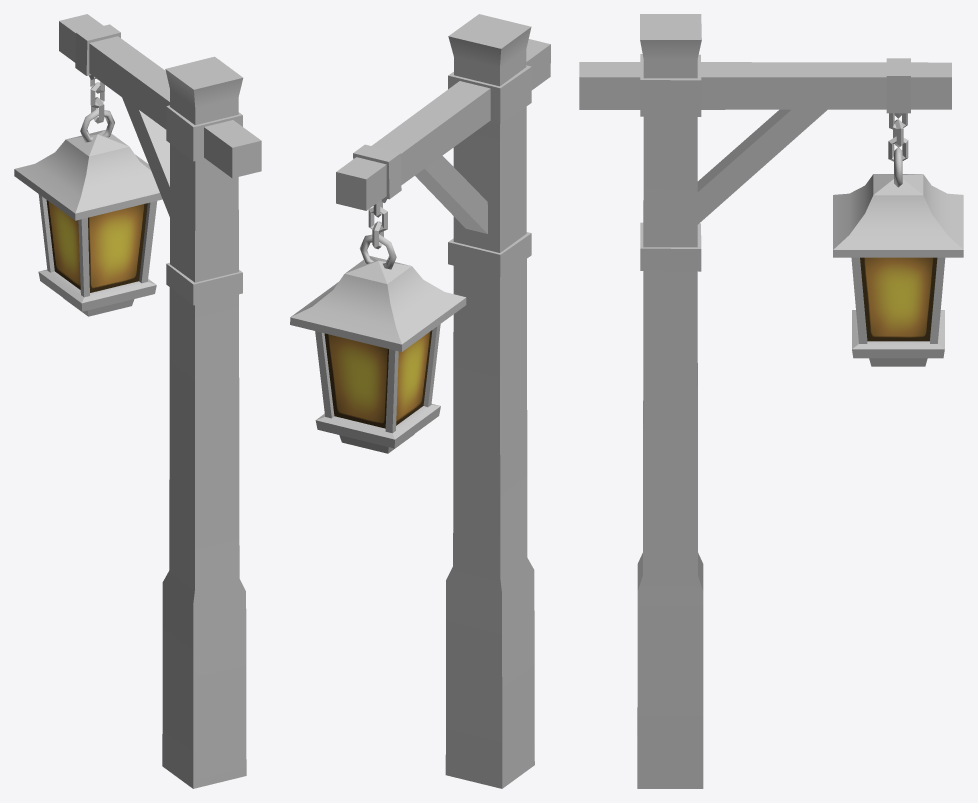
Rendered from SM_Lantern_02_A.fbx.
The picture shows the model from 3 angles, left to right: view 1: azimuth 30°, elevation 25°; view 2: azimuth 150°, elevation 25°; view 3: azimuth 270°, elevation 25°; orthographic projection. The views are drawn at different scales.
Parts seen in each view (by area): view 1: SM_Lantern_02_A_Mesh; view 2: SM_Lantern_02_A_Mesh; view 3: SM_Lantern_02_A_Mesh.
Boxes of the visible parts, x1,y1,x2,y2 form: SM_Lantern_02_A_Mesh: [14, 14, 261, 788]; SM_Lantern_02_A_Mesh: [290, 14, 550, 788]; SM_Lantern_02_A_Mesh: [579, 14, 963, 788].
Size of what is drawn, in the model's own units: 28.92 by 183 by 85.11.
